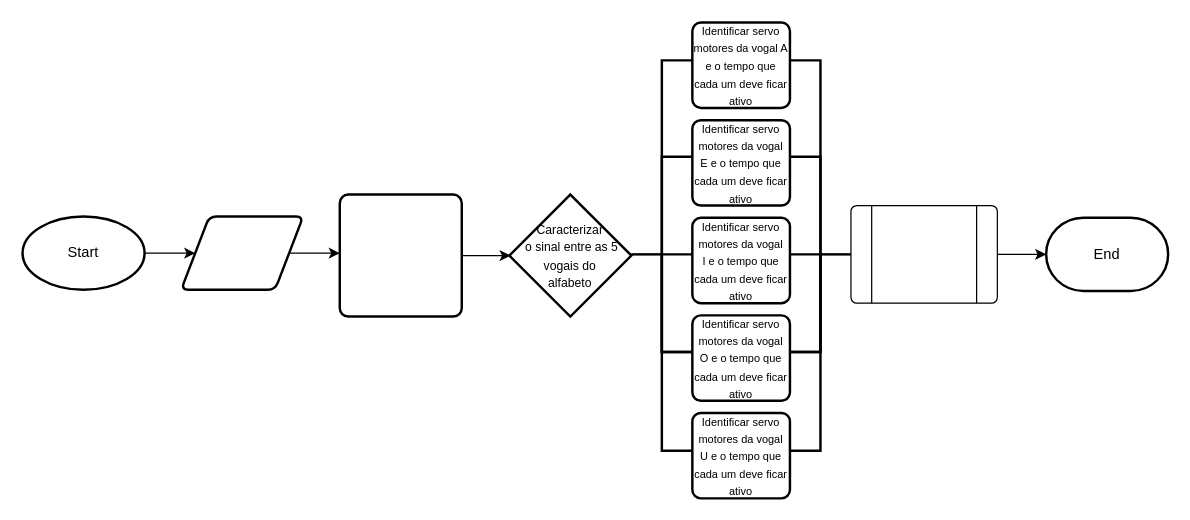
This 1190x520 diagram has some shape labels left out. The shapes that lost their labels are listed below. From the top down, each one's box as (x1, y1, x2, y2) in pixels, then its label:
(179, 215, 304, 290): Dados sonoros filtrados
(338, 193, 462, 317): Processamento e tratamento desses dados
(850, 204, 997, 303): Enviar sinais para acionar os servo motores na duração correta.
